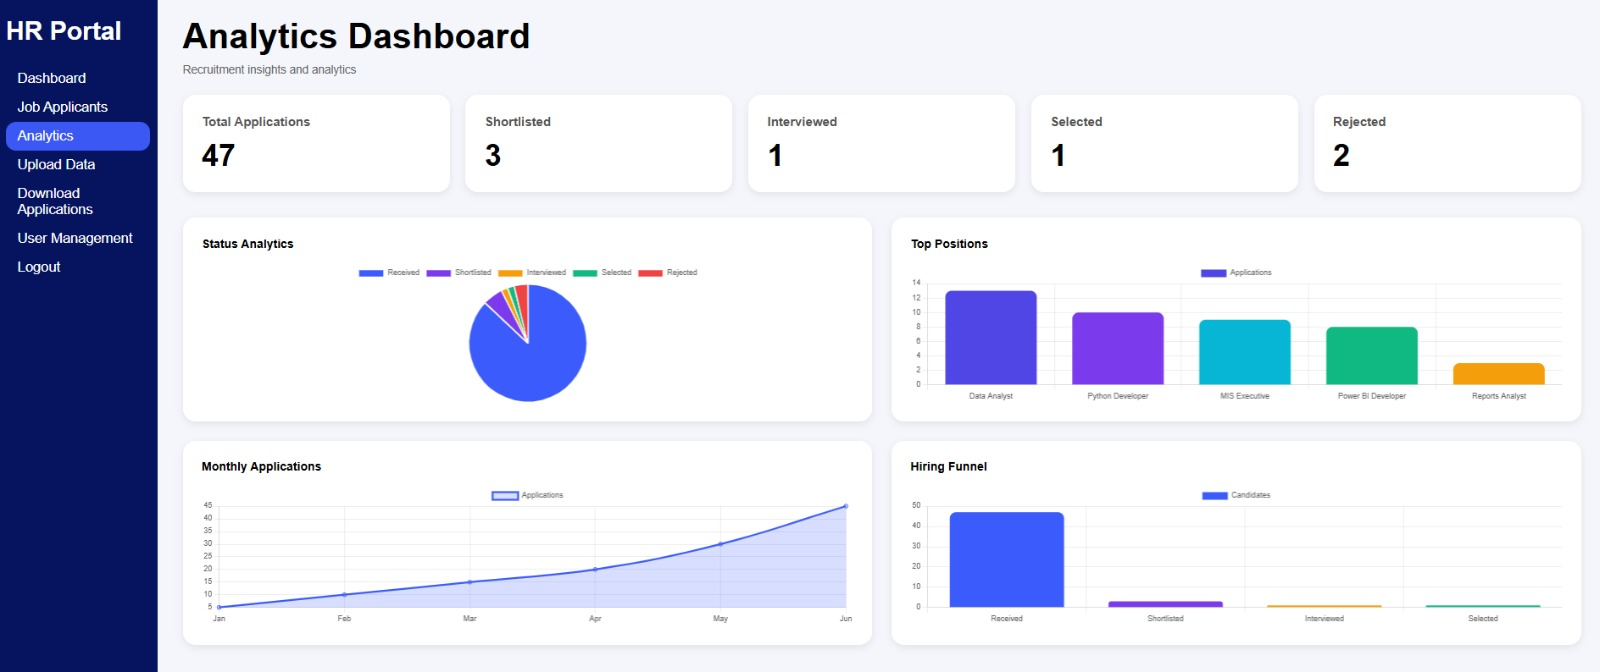

Layout of this report page (visuals, bound fields, positions):
{"tool":"powerbi","page":{"name":"Dashboard","canvas":[1280,720],"ordinal":0},"visuals":[{"type":"cardVisual","fields":{"Data":["job_application applicants.Total Applicants","job_application applicants.Recieved","job_application applicants.Shortlisted","job_application applicants.Interviewed","job_application applicants.Selected","job_application applicants.Rejected"]},"box":[237.1,85.7,1042.9,118.6],"z":0},{"type":"donutChart","title":"Status Analytics","fields":{"Category":["job_application applicants.status"],"Y":["CountNonNull(job_application applicants.id)"]},"box":[237.1,208.6,487.1,241.4],"z":1000},{"type":"lineChart","title":"Monthly Applications","fields":{"Category":["job_application applicants.Monthname"],"Y":["CountNonNull(job_application applicants.id)"]},"box":[237.1,455.7,487.1,261.4],"z":2000},{"type":"clusteredColumnChart","title":"Top Positions","fields":{"Category":["job_application applicants.position"],"Y":["CountNonNull(job_application applicants.id)"]},"box":[730,208.6,550,241.4],"z":3000},{"type":"funnel","title":"Hiring Funnel","fields":{"Y":["CountNonNull(job_application applicants.id)"],"Category":["job_application applicants.status"]},"box":[730,455.7,550,260],"z":4000},{"type":"slicer","fields":{"Values":["job_application applicants.status"]},"box":[0,259.3,226.3,84.5],"z":5000},{"type":"slicer","fields":{"Values":["job_application applicants.position"]},"box":[0,346.6,226.3,84.5],"z":6000},{"type":"slicer","fields":{"Values":["job_application applicants.Month"]},"box":[0,84.5,226.3,171.9],"z":7000},{"type":"card","fields":{"Values":["job_application applicants.Dashboard Title"]},"box":[237,6.4,1043.4,74.8],"z":8000},{"type":"card","fields":{"Values":["job_application applicants.Highest Rejected Role"]},"box":[0,620.2,226.3,98.8],"z":9000},{"type":"card","fields":{"Values":["job_application applicants.Top Selected Role"]},"box":[0,525.7,226.3,91.7],"z":10000},{"type":"card","title":"Most Applied Position","fields":{"Values":["job_application applicants.Most Applied Position"]},"box":[0,435.4,226.3,87.4],"z":11000},{"type":"pageNavigator","box":[0,6.4,225.9,71.6],"z":12000}]}

Visuals, with their boxes on the page's 1280x720 design canvas (x1, y1, x2, y2). These are canvas units, not pixel positions in the 1600x672 screenshot, which may show the page scaled, cropped or inside an application window:
cardVisual - job_application applicants.Total Applicants x job_application applicants.Recieved: pyautogui.locateOnScreen(237, 86, 1280, 204)
"Status Analytics" donutChart: pyautogui.locateOnScreen(237, 209, 724, 450)
"Monthly Applications" lineChart: pyautogui.locateOnScreen(237, 456, 724, 717)
"Top Positions" clusteredColumnChart: pyautogui.locateOnScreen(730, 209, 1280, 450)
"Hiring Funnel" funnel: pyautogui.locateOnScreen(730, 456, 1280, 716)
slicer - job_application applicants.status: pyautogui.locateOnScreen(0, 259, 226, 344)
slicer - job_application applicants.position: pyautogui.locateOnScreen(0, 347, 226, 431)
slicer - job_application applicants.Month: pyautogui.locateOnScreen(0, 84, 226, 256)
card - job_application applicants.Dashboard Title: pyautogui.locateOnScreen(237, 6, 1280, 81)
card - job_application applicants.Highest Rejected Role: pyautogui.locateOnScreen(0, 620, 226, 719)
card - job_application applicants.Top Selected Role: pyautogui.locateOnScreen(0, 526, 226, 617)
"Most Applied Position" card: pyautogui.locateOnScreen(0, 435, 226, 523)
pageNavigator: pyautogui.locateOnScreen(0, 6, 226, 78)
